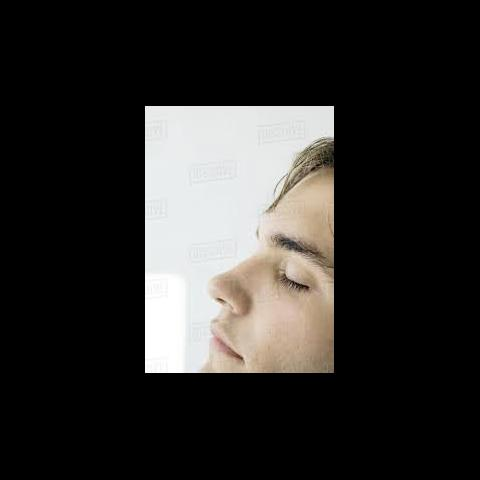closed: (252, 221, 331, 308)
